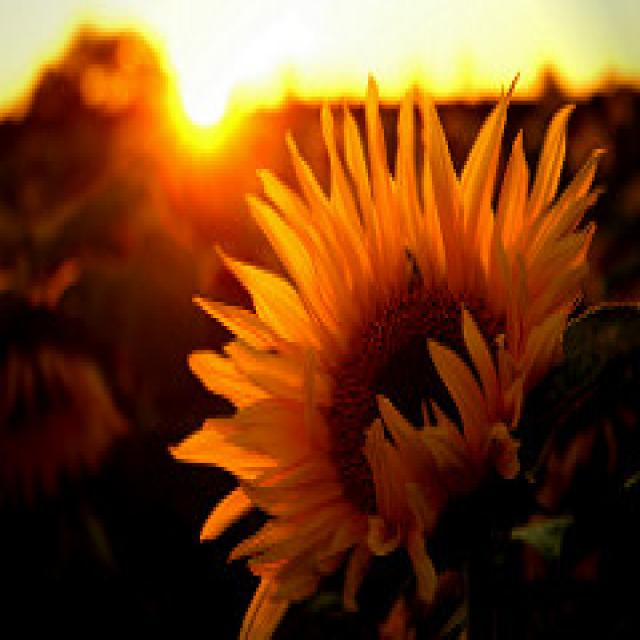sunflower: (233, 102, 599, 640)
